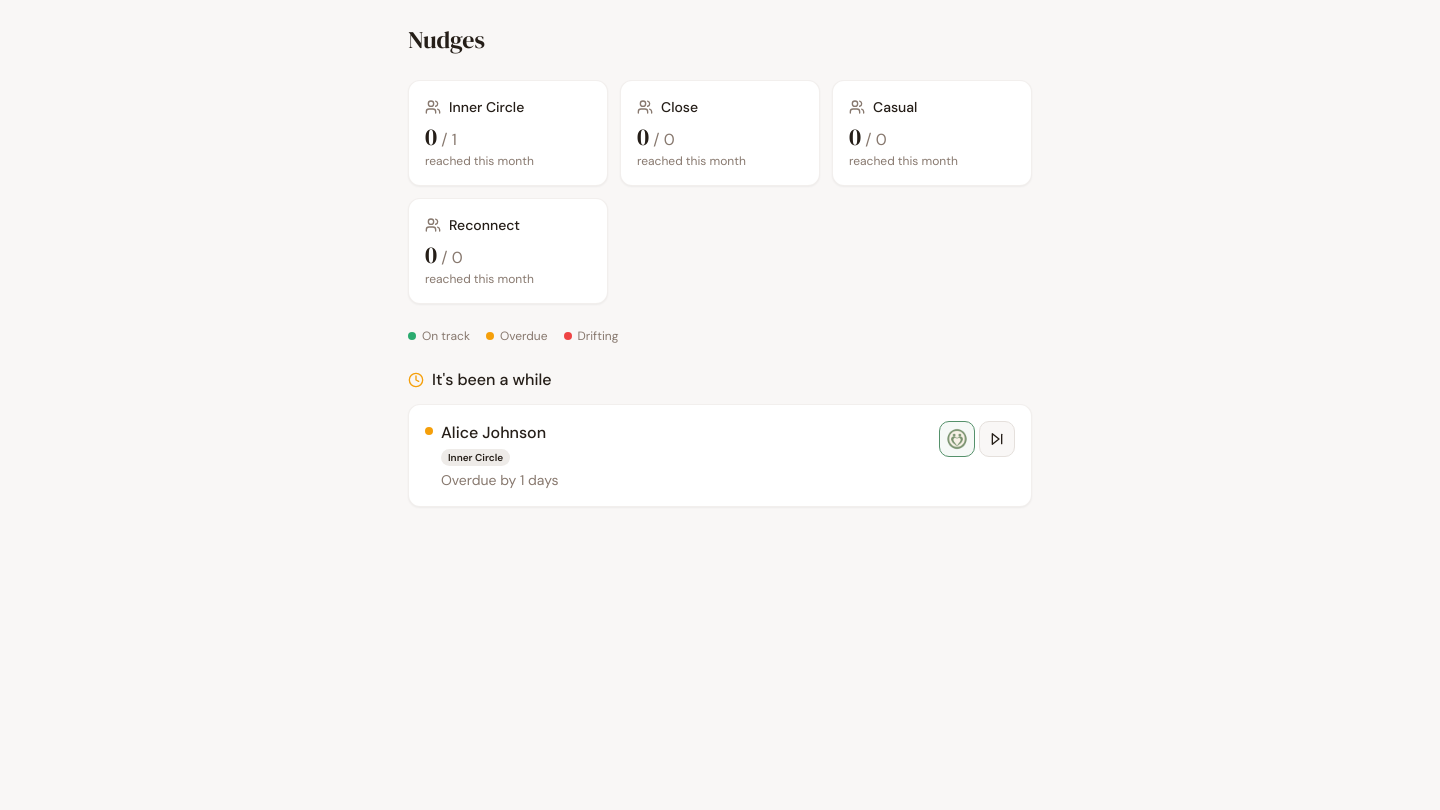
Scenario: Index (Dashboard) › opens Log Connection from Done and completes only after saving
The image size is (1440, 810).
Later steps or results of the test are not shown.
Click the button named "Done — log connection with Alice Johnson" at coordinates (957, 439), box [939, 421, 975, 457]
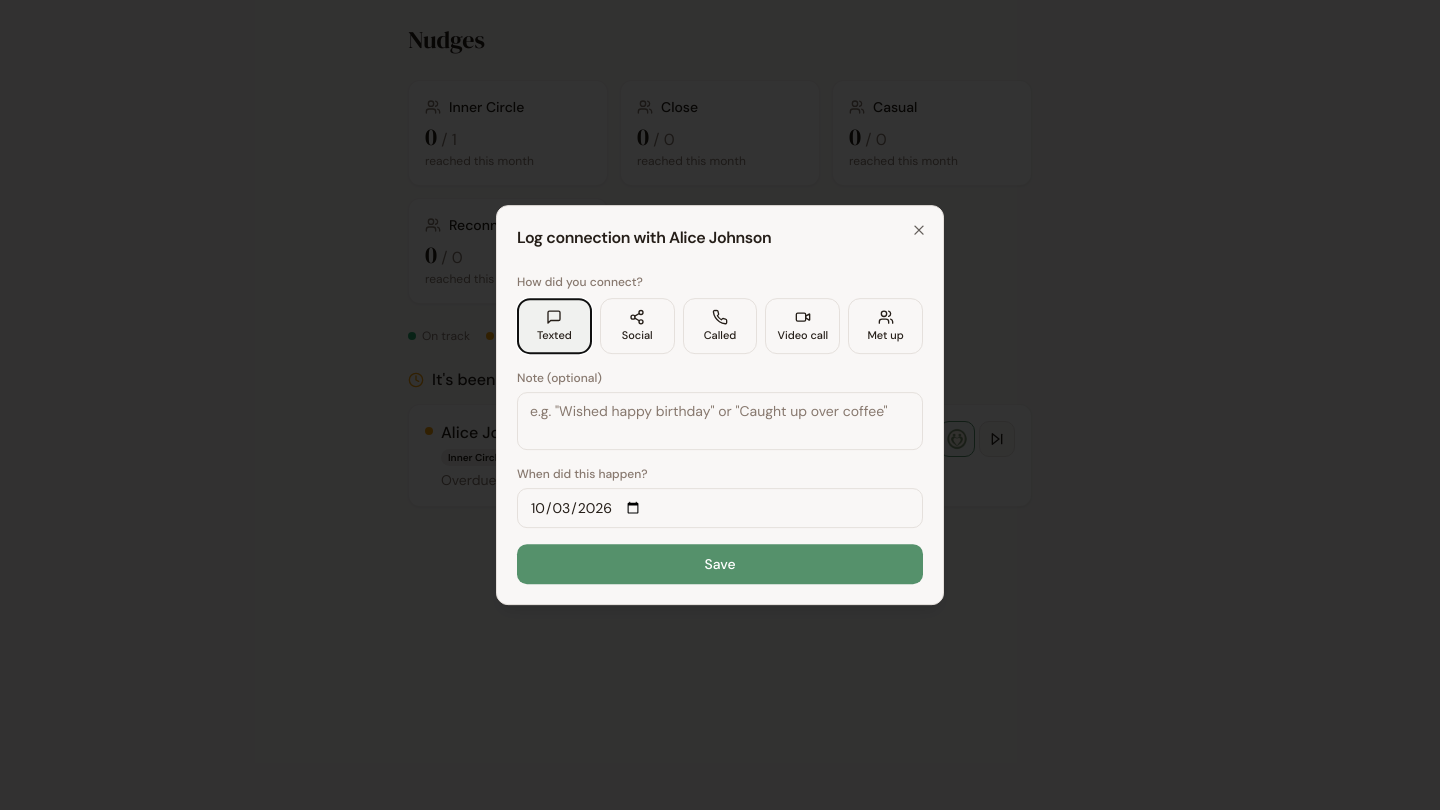
Expected: the heading "Log connection with Alice Johnson" is shown, [517, 227, 771, 248]
